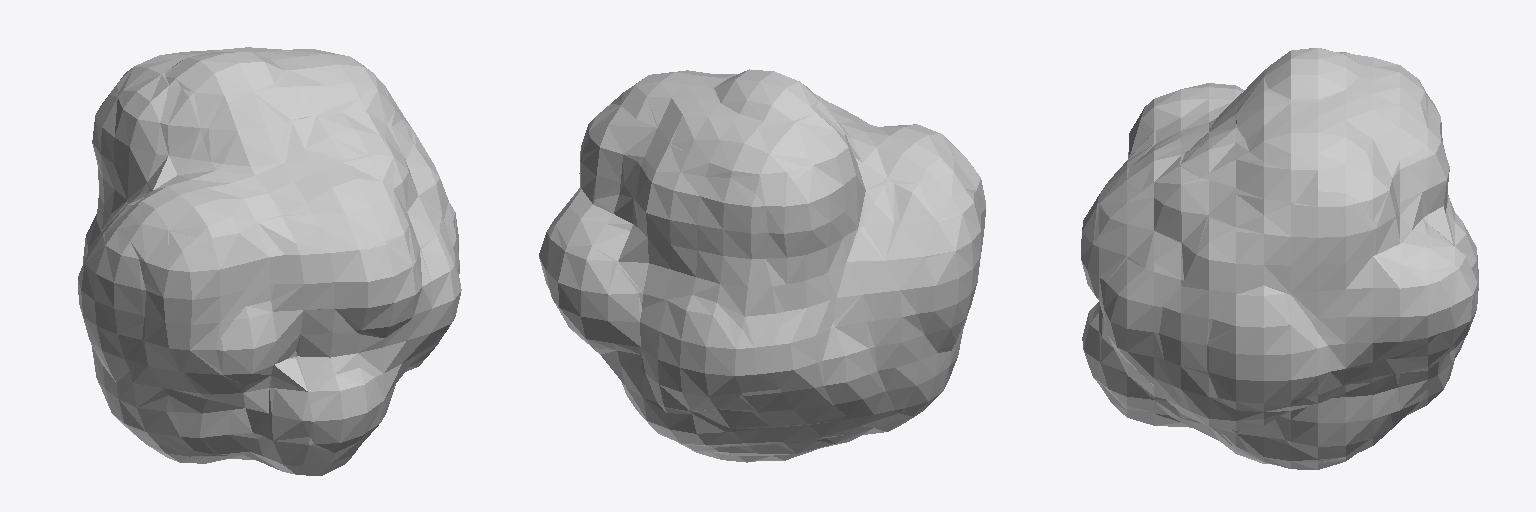
The model's file is 1gzv_1_cms.obj.
The picture shows the model from 3 angles: view 1: azimuth 30°, elevation 25°; view 2: azimuth 150°, elevation 25°; view 3: azimuth 270°, elevation 25°; orthographic projection.
Bounding box in the file's own units: 98.03 × 97.93 × 92.2.